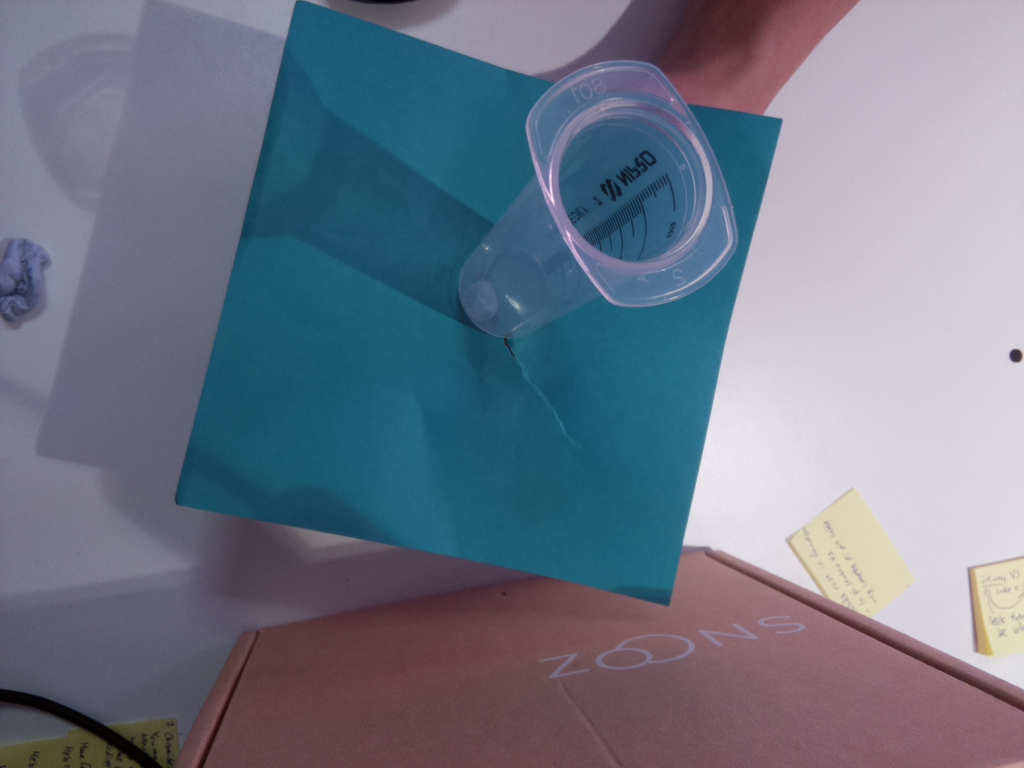clean: (523, 58, 742, 306)
